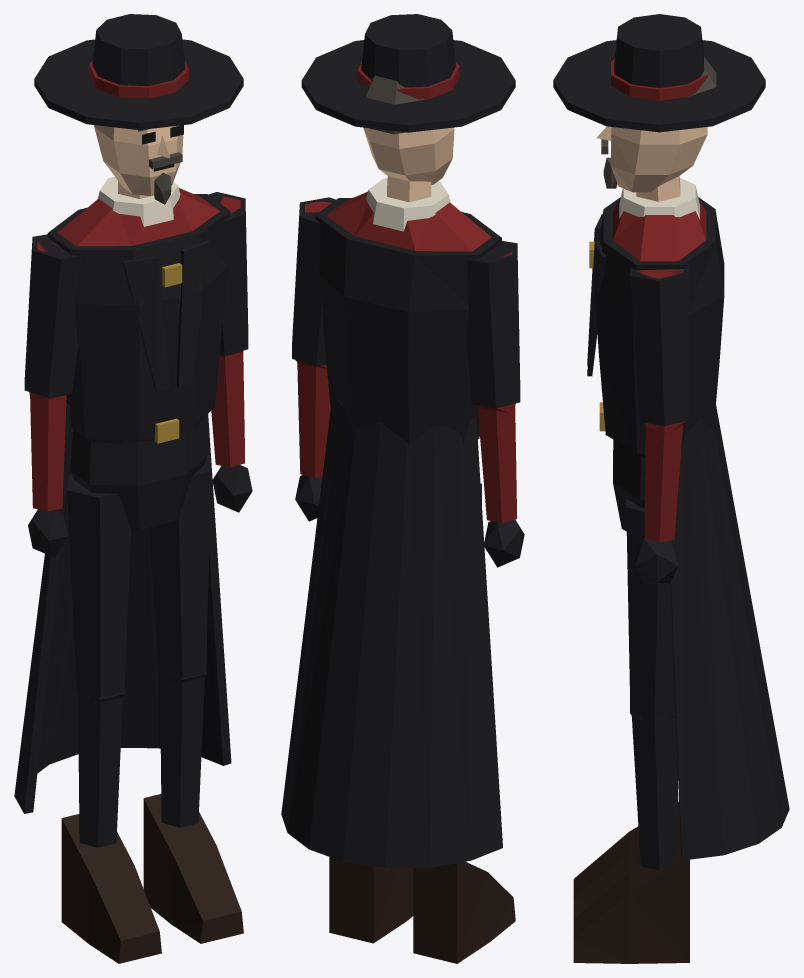
Rendered from deacon-vane.glb.
3 views of the same model, side by side, from view 1: azimuth 30°, elevation 25°; view 2: azimuth 150°, elevation 25°; view 3: azimuth 270°, elevation 25° (orthographic). The views are drawn at different scales.
Visible parts, largest first — view 1: chest_mesh, prop_mesh, shin_r_mesh, shin_l_mesh, thigh_r_mesh, coat_l_mesh, coat_r_mesh, thigh_l_mesh, hips_mesh, upper_arm_r_mesh, forearm_r_mesh, forearm_l_mesh (+4 smaller); view 2: coat_r_mesh, chest_mesh, coat_l_mesh, prop_mesh, upper_arm_r_mesh, shin_r_mesh, shin_l_mesh, head_mesh, forearm_r_mesh, upper_arm_l_mesh, forearm_l_mesh; view 3: coat_l_mesh, chest_mesh, prop_mesh, shin_l_mesh, upper_arm_l_mesh, thigh_l_mesh, head_mesh, forearm_l_mesh, shin_r_mesh, hips_mesh.
Boxes of the visible parts, x1=… form: chest_mesh: x1=47, y1=176, x2=230, y2=440; prop_mesh: x1=34, y1=14, x2=243, y2=129; shin_r_mesh: x1=61, y1=694, x2=161, y2=963; shin_l_mesh: x1=143, y1=674, x2=243, y2=943; thigh_r_mesh: x1=67, y1=474, x2=131, y2=702; coat_l_mesh: x1=120, y1=414, x2=231, y2=765; coat_r_mesh: x1=14, y1=403, x2=78, y2=813; thigh_l_mesh: x1=149, y1=454, x2=210, y2=682; hips_mesh: x1=70, y1=416, x2=207, y2=529; upper_arm_r_mesh: x1=24, y1=234, x2=81, y2=399; forearm_r_mesh: x1=28, y1=392, x2=67, y2=557; forearm_l_mesh: x1=211, y1=351, x2=252, y2=512; coat_r_mesh: x1=343, y1=418, x2=502, y2=867; chest_mesh: x1=315, y1=178, x2=501, y2=446; coat_l_mesh: x1=281, y1=400, x2=380, y2=861; prop_mesh: x1=301, y1=14, x2=515, y2=132; upper_arm_r_mesh: x1=465, y1=241, x2=520, y2=412; shin_r_mesh: x1=413, y1=861, x2=515, y2=963; shin_l_mesh: x1=329, y1=857, x2=413, y2=943; head_mesh: x1=360, y1=75, x2=454, y2=202; forearm_r_mesh: x1=477, y1=403, x2=524, y2=567; upper_arm_l_mesh: x1=292, y1=197, x2=335, y2=368; forearm_l_mesh: x1=295, y1=363, x2=330, y2=521; coat_l_mesh: x1=670, y1=405, x2=789, y2=860; chest_mesh: x1=587, y1=178, x2=724, y2=453; prop_mesh: x1=553, y1=14, x2=765, y2=132; shin_l_mesh: x1=573, y1=715, x2=689, y2=963; upper_arm_l_mesh: x1=630, y1=266, x2=688, y2=432; thigh_l_mesh: x1=626, y1=499, x2=675, y2=721; head_mesh: x1=601, y1=57, x2=716, y2=201; forearm_l_mesh: x1=635, y1=424, x2=682, y2=583; shin_r_mesh: x1=573, y1=772, x2=680, y2=918; hips_mesh: x1=613, y1=440, x2=645, y2=531.
Size of the model in its own units: 0.5184 by 1.96 by 0.4673.
